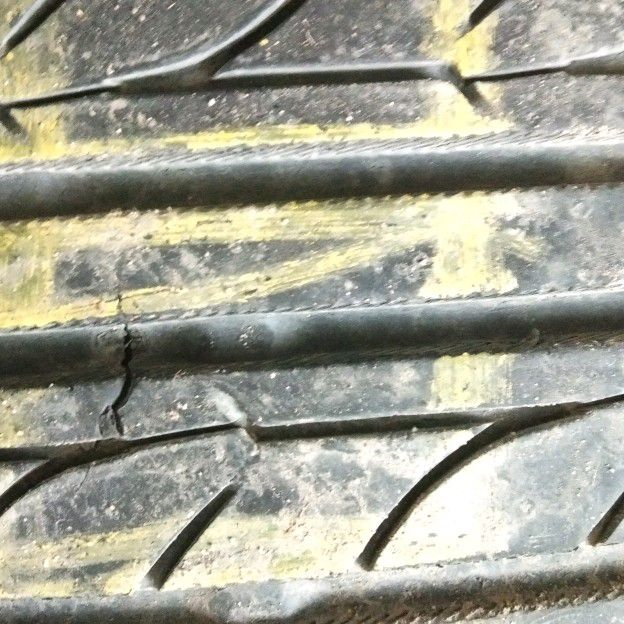tr: (103, 281, 138, 442)
